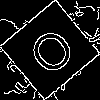O: (24, 24, 85, 86)
